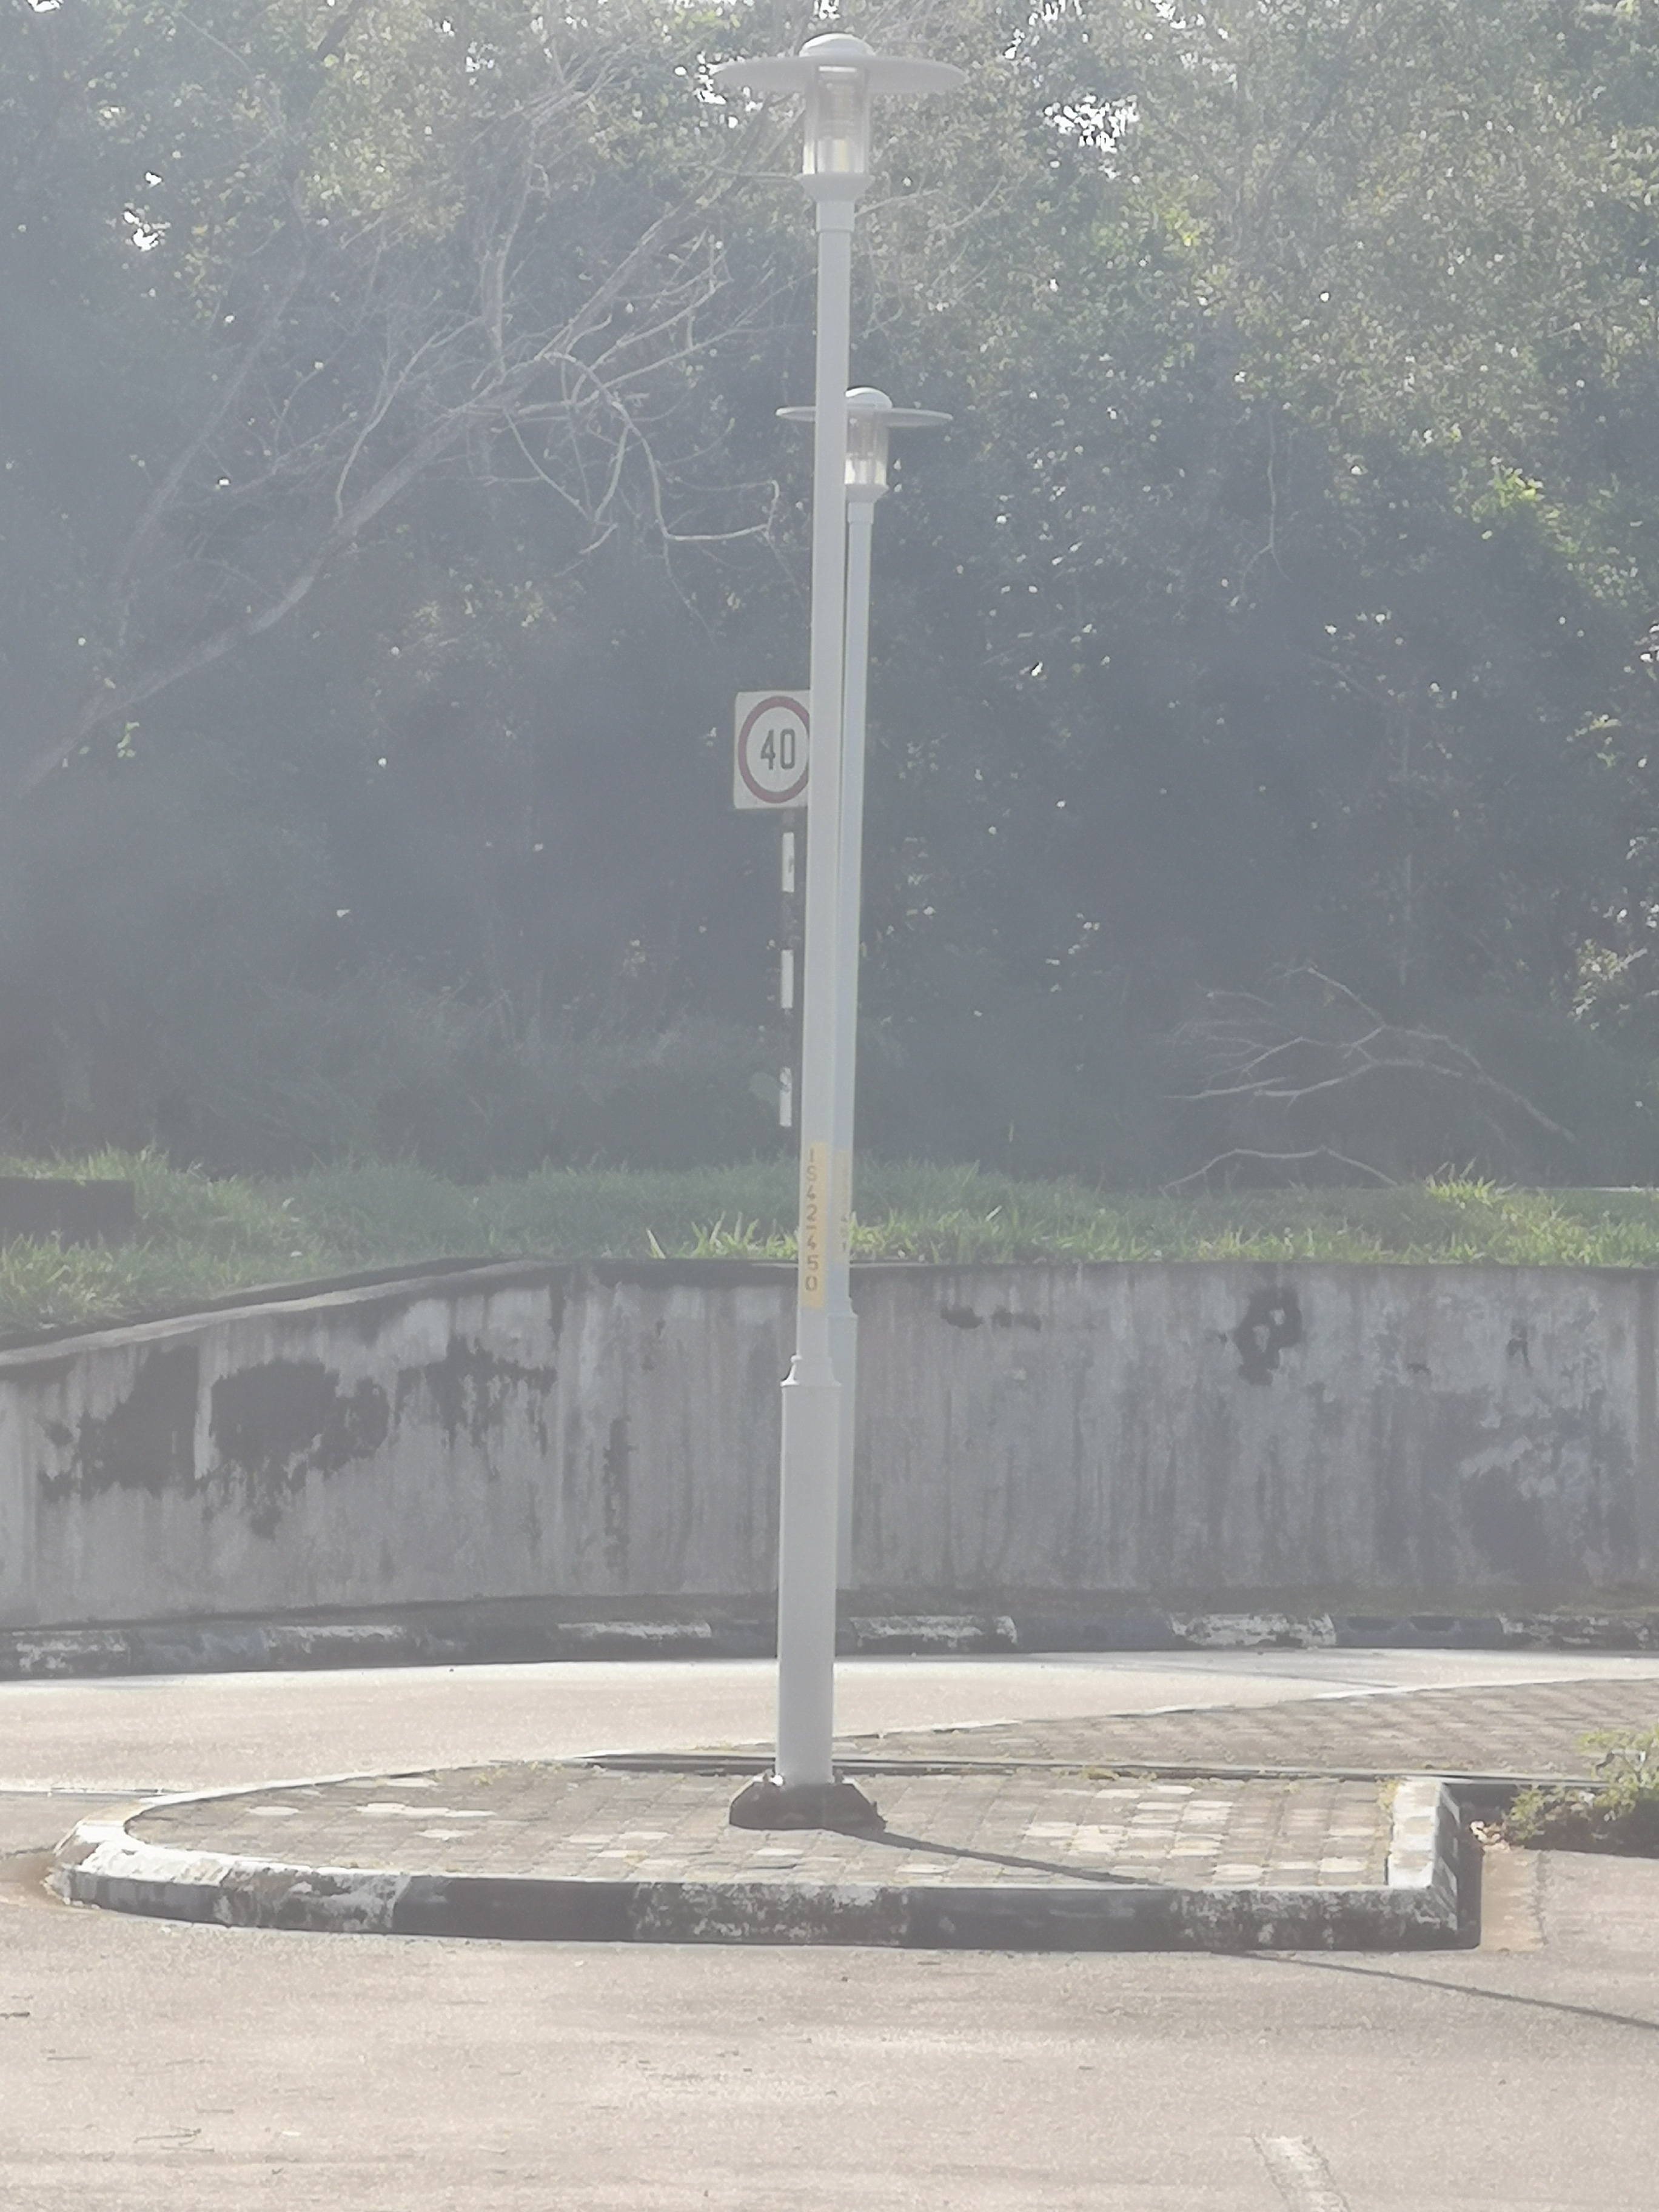speed limit 40: (727, 688, 824, 813)
